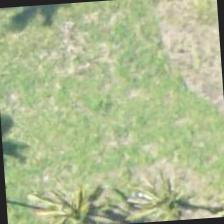Kelapa_Sawit: (109, 163, 204, 223), (10, 164, 105, 223)
